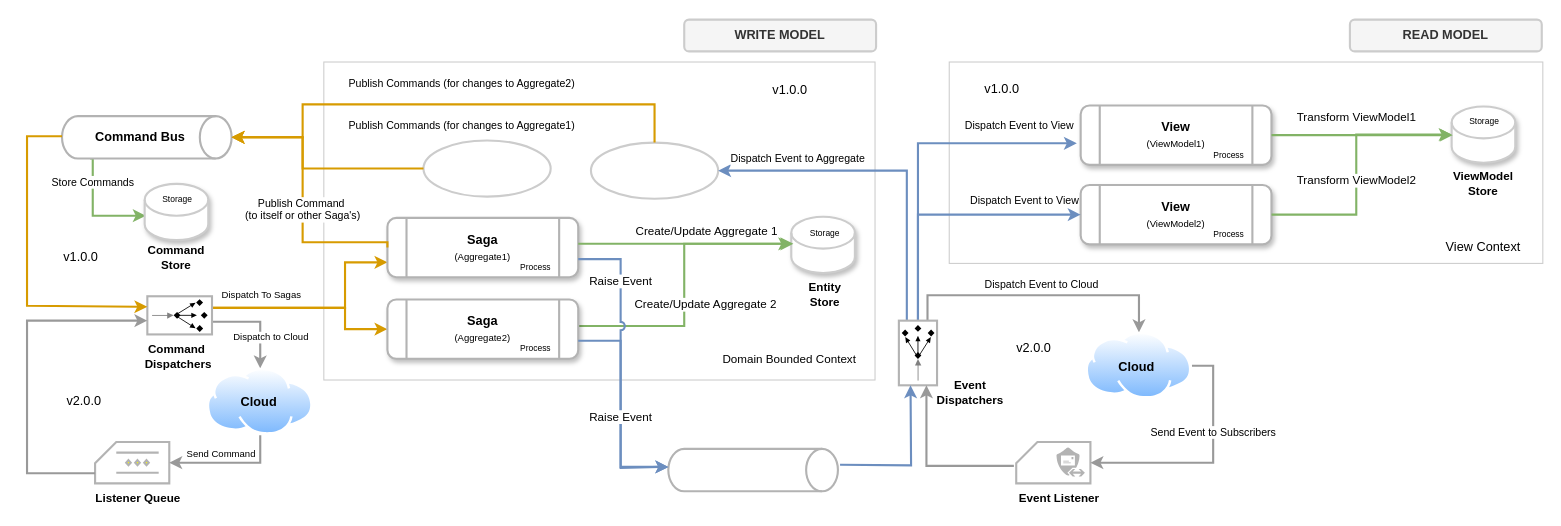
This 1561x526 diagram has some shape labels left out. Each missing label, with the centre of its shape:
Aggregate (Aggregate1): [486,168]
Aggregate (Aggregate2): [654,170]
Event Queue: [752,469]
